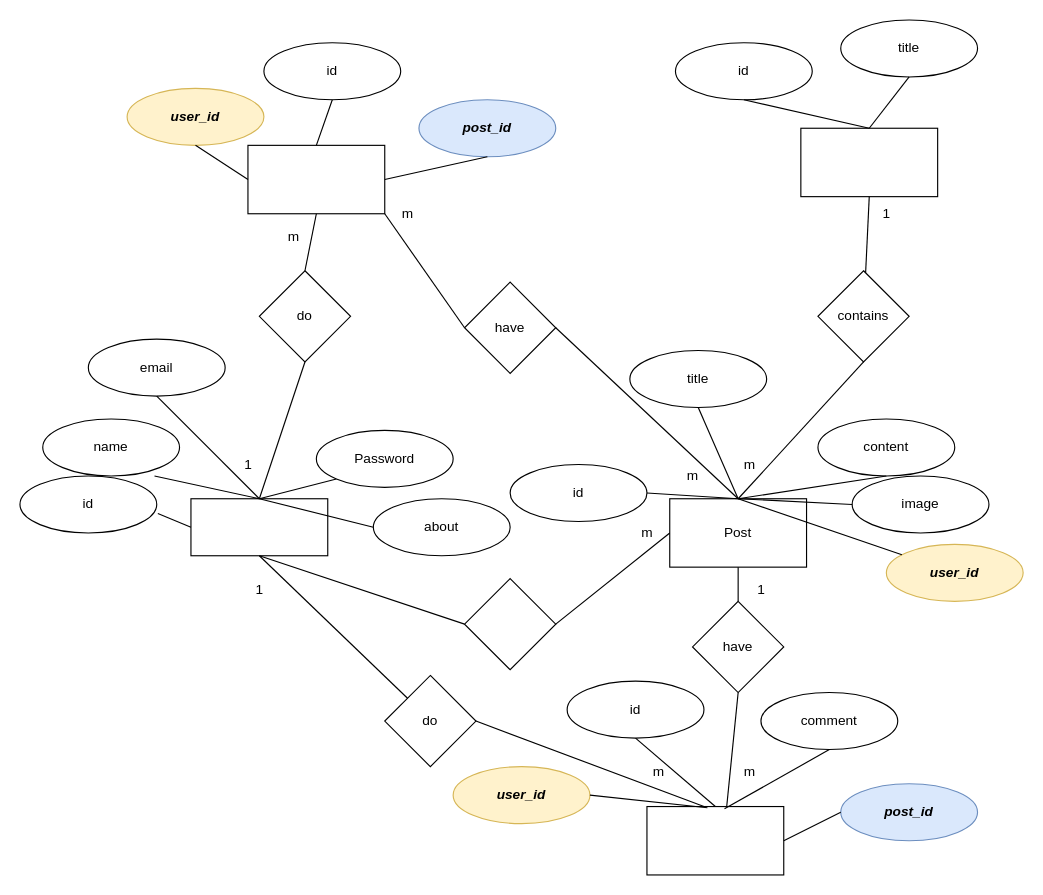
Image size: 1043x895. Some labels were removed from this diagram. The centre of each missing label's shape, as x and y in pixels:
Category: the point at 869,162
Comments: the point at 715,840
creates: the point at 509,623
Likes: the point at 316,179
User: the point at 259,527
